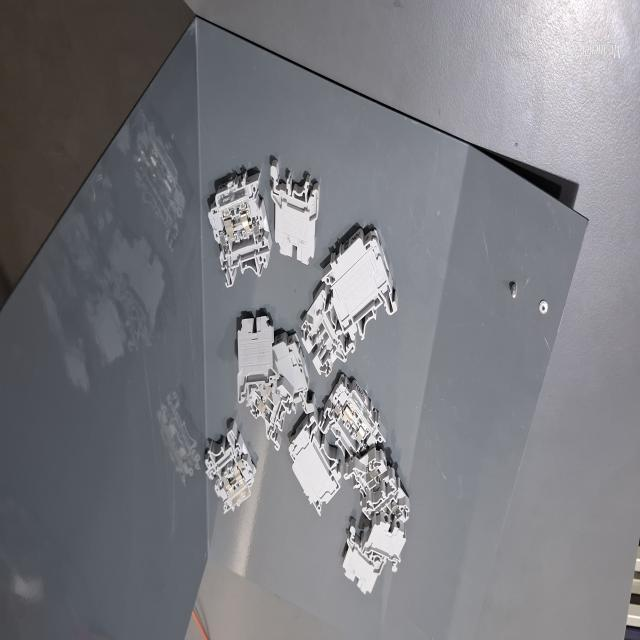Inverted: (266, 150, 320, 278), (228, 300, 282, 412), (358, 508, 412, 586)
Reject: (298, 284, 361, 384)
